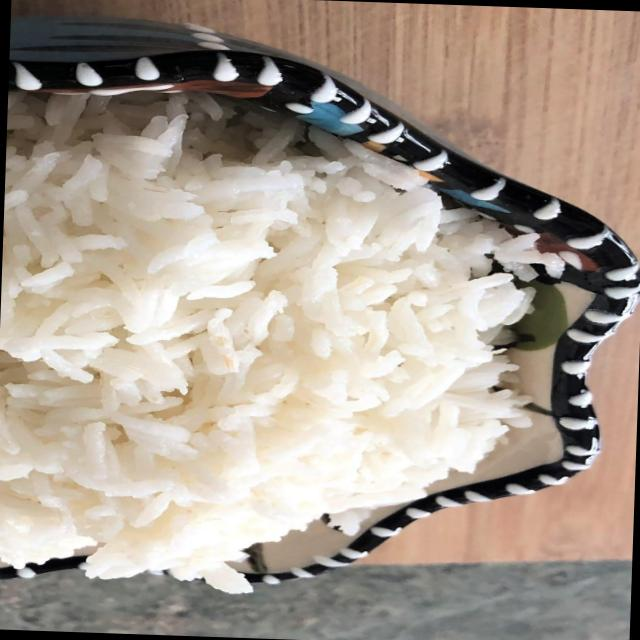rice: (0, 92, 516, 559)
